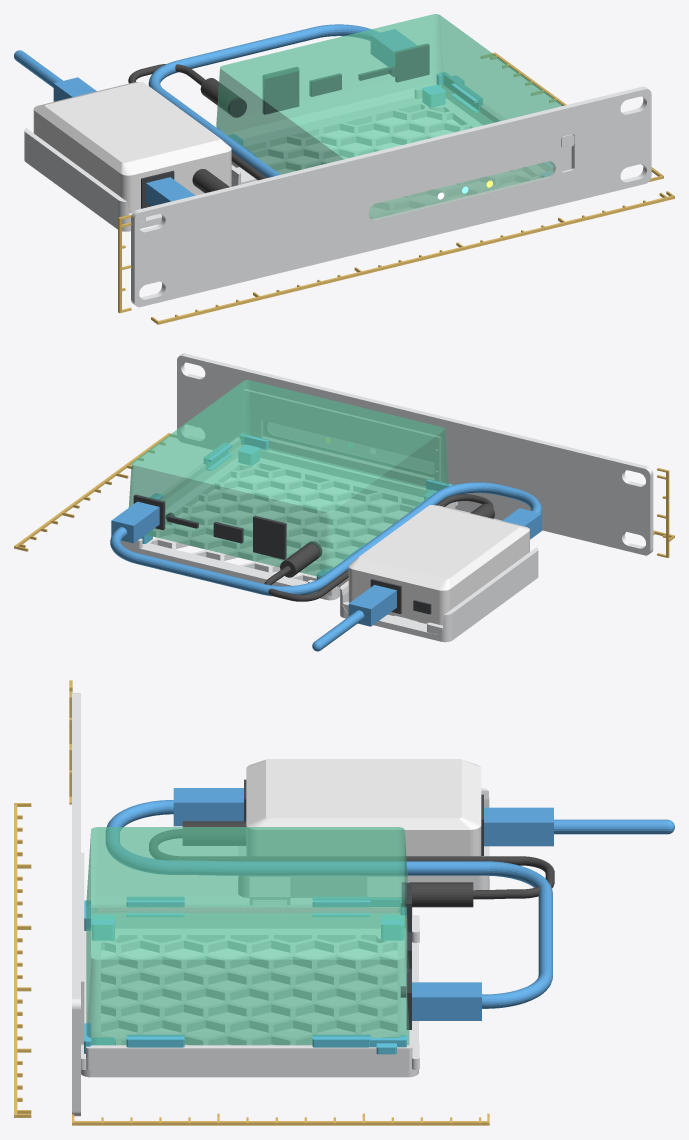
Rendered from home-assistant-green-rack-unified_roof.glb.
3 renders of one model, top to bottom at view 1: azimuth 30°, elevation 25°; view 2: azimuth 150°, elevation 25°; view 3: azimuth 270°, elevation 25°, orthographic. The views are drawn at different scales.
Visible parts, largest first — view 1: White rack mount, Home Assistant Green, TP-Link TL-PD30G-M2, Green tray — standard, Internal Ethernet cable, 10 mm dimension rulers, Home Assistant Green connector faces, TP-Link cradle side walls, LED window insert, DC cable, Green retention — segmented rails + rear latch, Incoming PoE cable (+3 smaller); view 2: Home Assistant Green, White rack mount, Green tray — standard, TP-Link TL-PD30G-M2, Internal Ethernet cable, LED shutter retainer, TP-Link cradle side walls, Home Assistant Green connector faces, LED window insert, DC cable, Incoming PoE cable, Green retention — segmented rails + rear latch (+3 smaller); view 3: Home Assistant Green, Green tray — standard, TP-Link TL-PD30G-M2, Internal Ethernet cable, DC cable, Green retention — segmented rails + rear latch, White rack mount, 10 mm dimension rulers, Incoming PoE cable, TP-Link cradle side walls, Home Assistant Green connector faces, TP-Link cradle floor (+1 smaller).
Part boxes in pixels (bbox=[...]): White rack mount: bbox=[131, 86, 651, 307]; Home Assistant Green: bbox=[216, 14, 562, 218]; TP-Link TL-PD30G-M2: bbox=[33, 81, 231, 213]; Green tray — standard: bbox=[226, 83, 504, 170]; Internal Ethernet cable: bbox=[146, 24, 416, 206]; 10 mm dimension rulers: bbox=[118, 52, 674, 324]; Home Assistant Green connector faces: bbox=[227, 43, 429, 117]; TP-Link cradle side walls: bbox=[24, 128, 240, 224]; LED window insert: bbox=[368, 161, 555, 220]; DC cable: bbox=[128, 64, 266, 193]; Green retention — segmented rails + rear latch: bbox=[217, 72, 552, 177]; Incoming PoE cable: bbox=[14, 50, 96, 101]; Home Assistant Green: bbox=[128, 380, 448, 577]; White rack mount: bbox=[177, 353, 653, 587]; Green tray — standard: bbox=[121, 437, 457, 600]; TP-Link TL-PD30G-M2: bbox=[348, 505, 529, 625]; Internal Ethernet cable: bbox=[110, 482, 541, 596]; LED shutter retainer: bbox=[244, 389, 440, 481]; TP-Link cradle side walls: bbox=[340, 547, 538, 636]; Home Assistant Green connector faces: bbox=[133, 494, 322, 559]; LED window insert: bbox=[263, 421, 433, 476]; DC cable: bbox=[264, 494, 494, 601]; Incoming PoE cable: bbox=[312, 585, 396, 651]; Green retention — segmented rails + rear latch: bbox=[141, 433, 452, 579]; Home Assistant Green: bbox=[86, 827, 409, 1045]; Green tray — standard: bbox=[81, 905, 419, 1077]; TP-Link TL-PD30G-M2: bbox=[246, 759, 481, 856]; Internal Ethernet cable: bbox=[106, 788, 552, 1020]; DC cable: bbox=[149, 821, 554, 907]; Green retention — segmented rails + rear latch: bbox=[84, 897, 406, 1054]; White rack mount: bbox=[72, 693, 407, 1116]; 10 mm dimension rulers: bbox=[14, 680, 489, 1125]; Incoming PoE cable: bbox=[484, 807, 674, 846]; TP-Link cradle side walls: bbox=[238, 788, 489, 890]; Home Assistant Green connector faces: bbox=[400, 882, 411, 1029]; TP-Link cradle floor: bbox=[238, 846, 489, 897].
Size of what is drawn, in the model's own units: 268 by 44.45 by 227.
